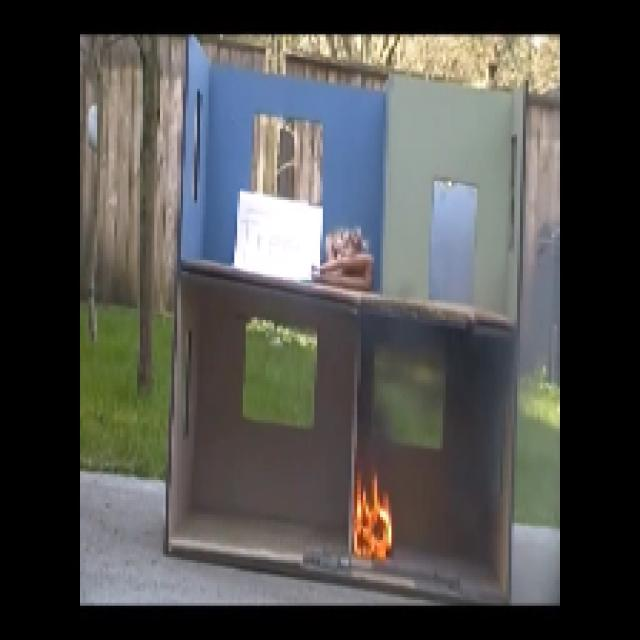fire: (352, 470, 393, 561)
